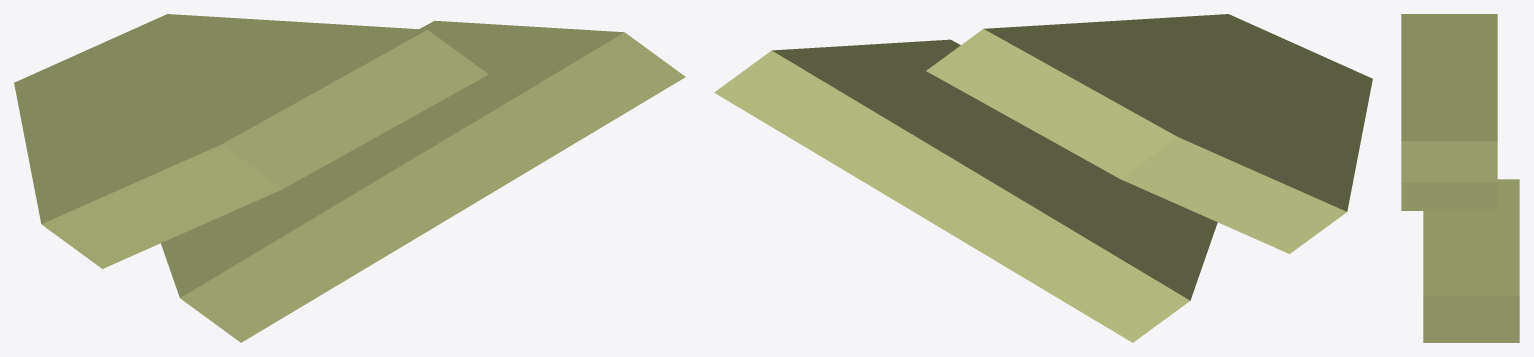
The picture shows the model from 3 angles, left to right: view 1: azimuth 30°, elevation 25°; view 2: azimuth 150°, elevation 25°; view 3: azimuth 270°, elevation 25°; orthographic projection. The views are drawn at different scales.
Parts seen in each view (by area): view 1: 0_1_3_2_2_2_0_2_2; view 2: 0_1_3_2_2_2_0_2_2; view 3: 0_1_3_2_2_2_0_2_2.
Boxes of the visible parts, x1,y1,x2,y2 form: 0_1_3_2_2_2_0_2_2: (14, 14, 685, 342); 0_1_3_2_2_2_0_2_2: (714, 14, 1372, 342); 0_1_3_2_2_2_0_2_2: (1401, 14, 1519, 342).
Size of the model in its own units: 35.35 by 16.27 by 7.37.
